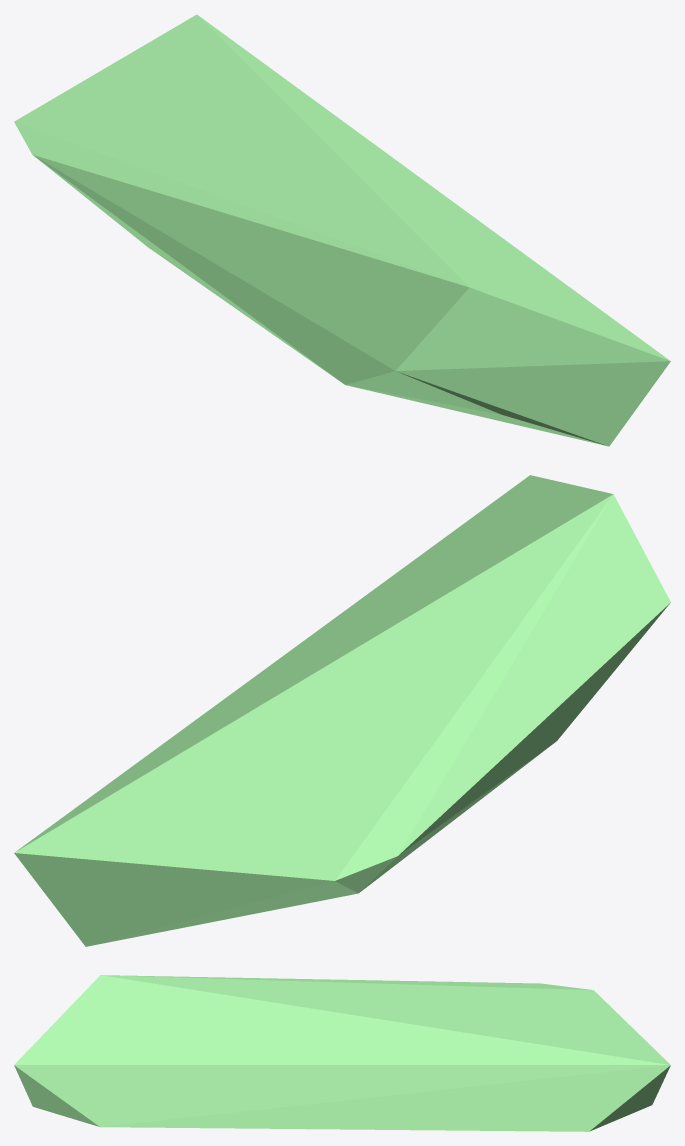
Rendered from linkhou_robot_base_coll_23.dae.
The picture shows the model from 3 angles, top to bottom: view 1: azimuth 30°, elevation 25°; view 2: azimuth 150°, elevation 25°; view 3: azimuth 270°, elevation 25°; orthographic projection. The views are drawn at different scales.
Visible parts, largest first — view 1: Node_0000029808432F10; view 2: Node_0000029808432F10; view 3: Node_0000029808432F10.
Part boxes in pixels (x1,y1,x2,y2): Node_0000029808432F10: [14, 14, 670, 446]; Node_0000029808432F10: [14, 475, 670, 946]; Node_0000029808432F10: [14, 975, 670, 1131].
Bounding box in the file's own units: 0.04 × 0.0202 × 0.1098.
